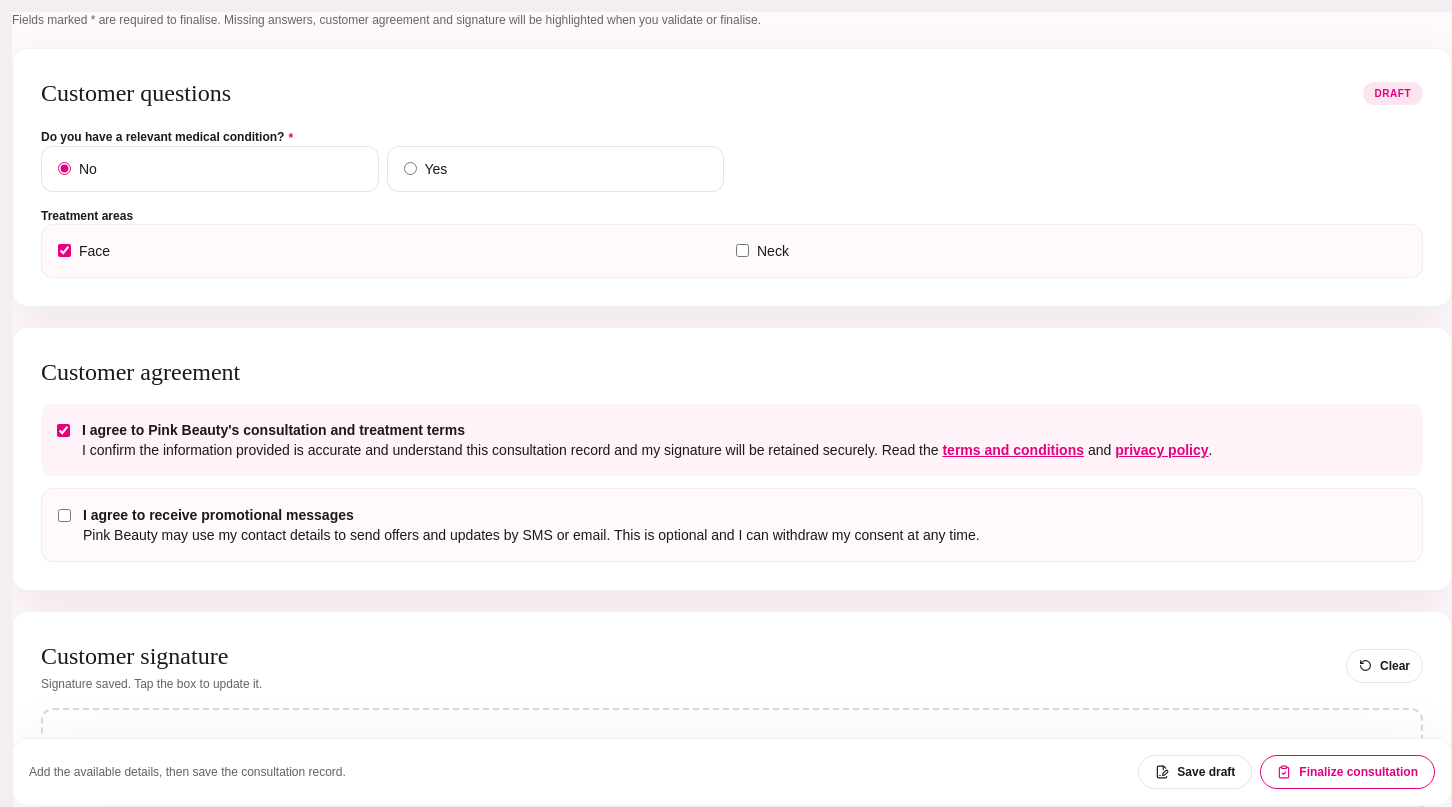
consultation save recovery › shows server validation details instead of hiding them behind a generic save error
The width and height of the screenshot is (1452, 807).
Click the button "Finalize consultation" at (1348, 772), box 1260,755 -> 1435,789
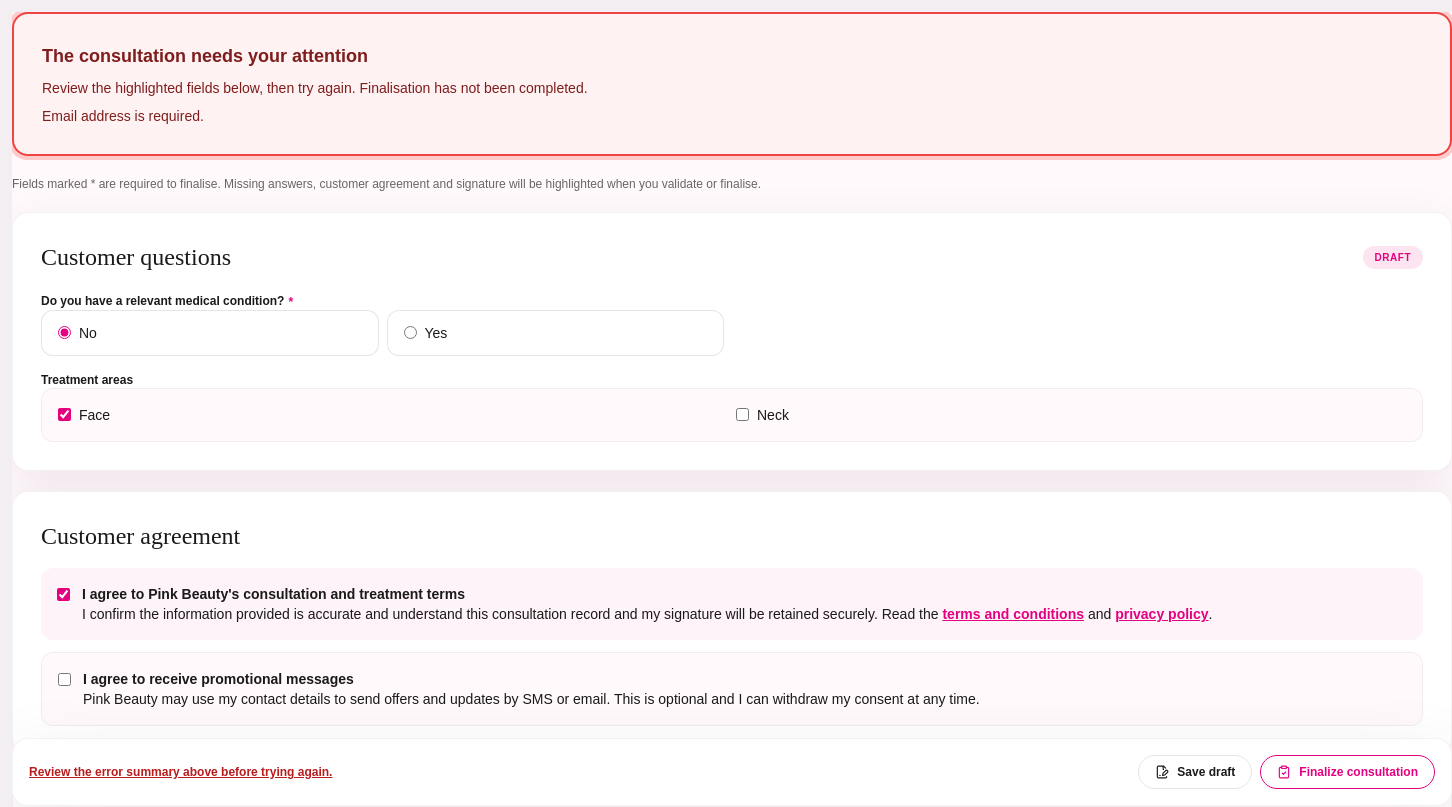
Expected: the text "Email address is required." is shown, 42,108 -> 204,124
